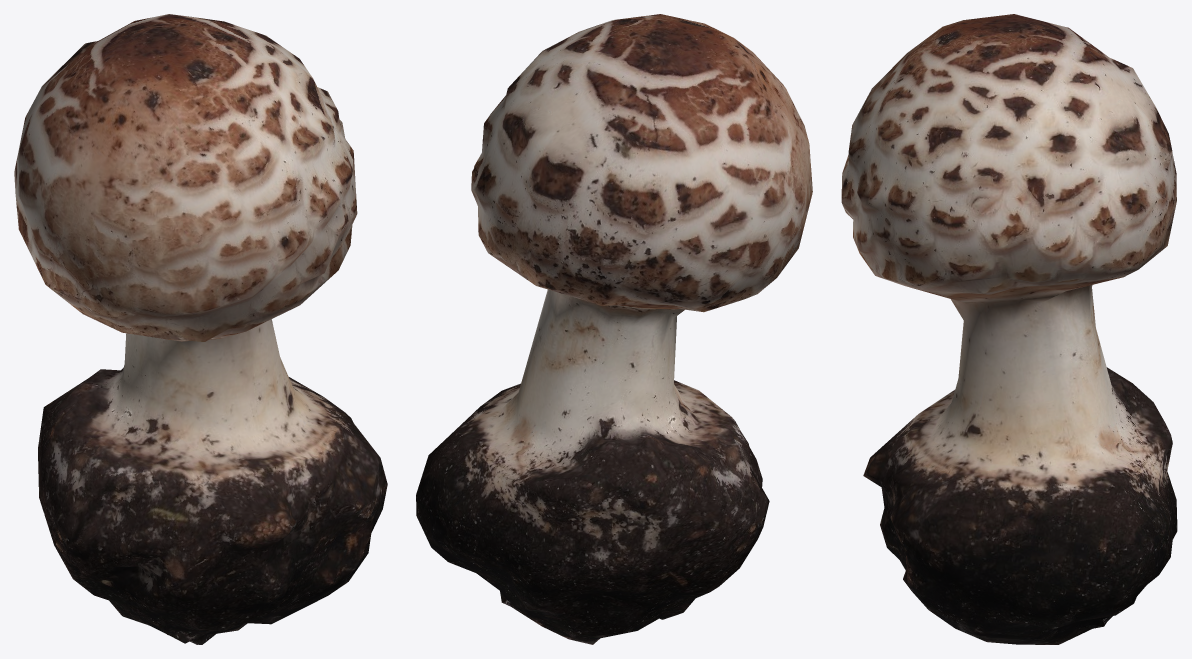
The picture shows the model from 3 angles, left to right: view 1: azimuth 30°, elevation 25°; view 2: azimuth 150°, elevation 25°; view 3: azimuth 270°, elevation 25°; orthographic projection. The views are drawn at different scales.
Visible parts, largest first — view 1: mushroom_12; view 2: mushroom_12; view 3: mushroom_12.
Boxes of the visible parts, x1,y1,x2,y2 form: mushroom_12: (14,14,387,644); mushroom_12: (416,14,812,644); mushroom_12: (841,14,1177,644).
Size of the model in its own units: 58.76 by 63.53 by 113.
